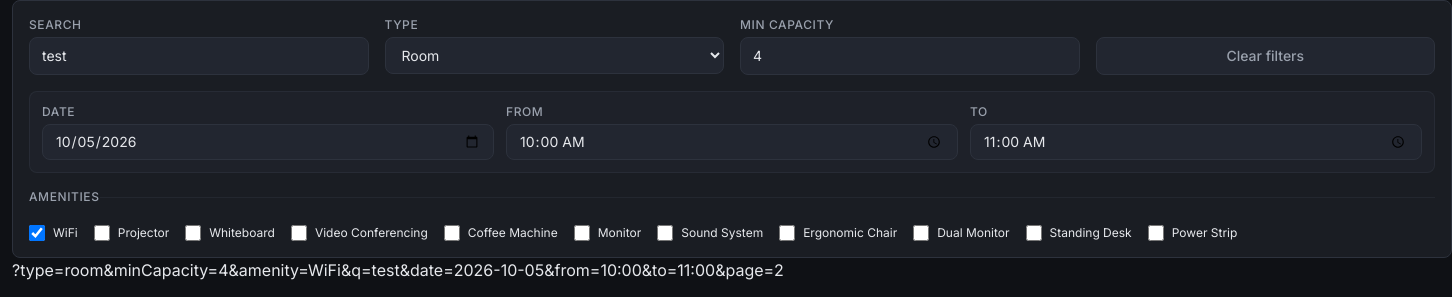
it: FilterBar Component › resets everything when "Clear filters" is clicked
This screenshot has width=1452, height=297.
Expected: the dropdown labelled "Type" shows "Room", [384, 37, 724, 74]
Expected: the number field labelled "Min Capacity" holds "4", [740, 37, 1080, 75]
Click the button "Clear filters": (1265, 56) [1096, 37, 1435, 75]
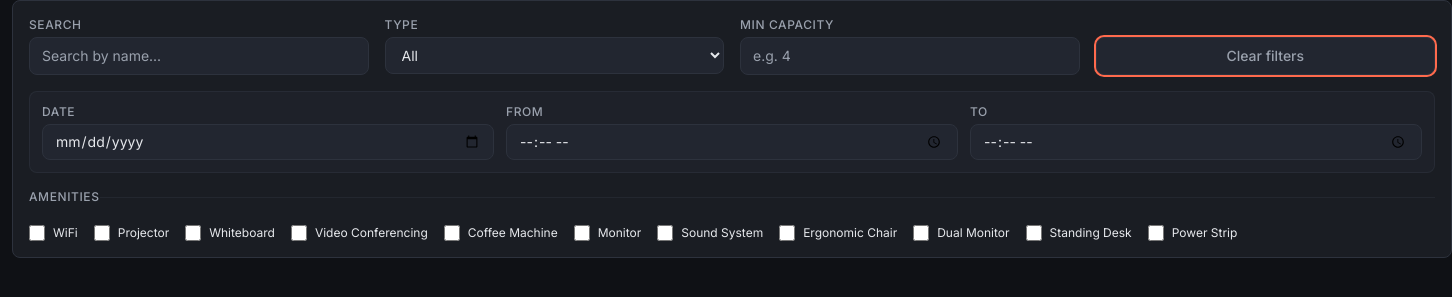
Expected: the dropdown labelled "Type" shows "All", [384, 37, 724, 74]
Expected: the number field labelled "Min Capacity" is not empty, [740, 37, 1080, 75]
Expected: the checkbox labelled "WiFi" is not checked, [29, 225, 45, 241]
